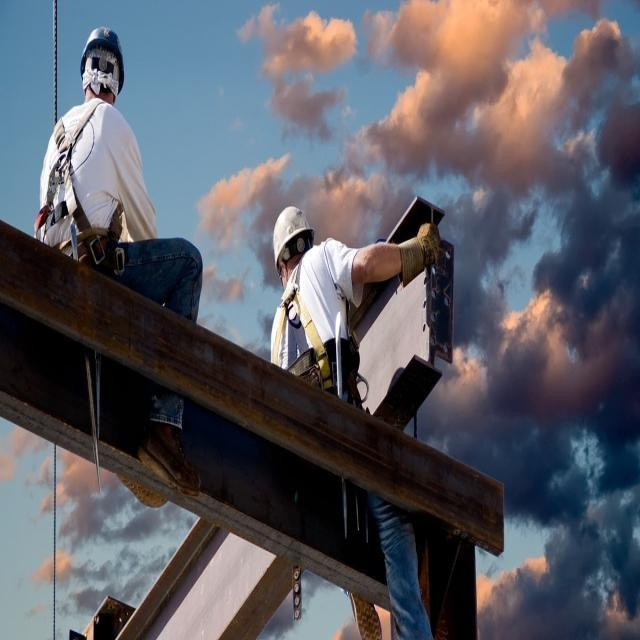Arnes_seguridad: (32, 97, 131, 277), (273, 255, 365, 405)
